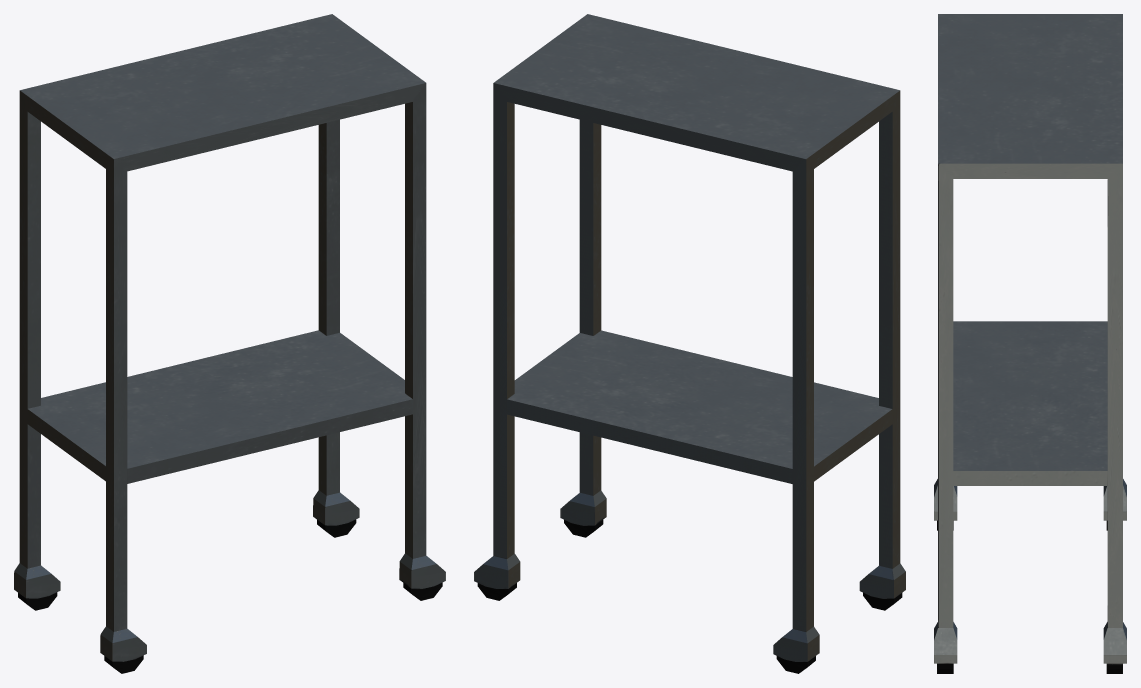
File: Mesa_hospital.fbx
The picture shows the model from 3 angles, left to right: view 1: azimuth 30°, elevation 25°; view 2: azimuth 150°, elevation 25°; view 3: azimuth 270°, elevation 25°; orthographic projection.
Parts seen in each view (by area): view 1: mesa hospital; view 2: mesa hospital; view 3: mesa hospital.
Part boxes in pixels (<box>): mesa hospital: <box>14,14,445,673</box>; mesa hospital: <box>474,14,905,673</box>; mesa hospital: <box>934,14,1126,673</box>.
Bounding box in the file's own units: 223 × 330 × 114.
1 material, 1 textured.
